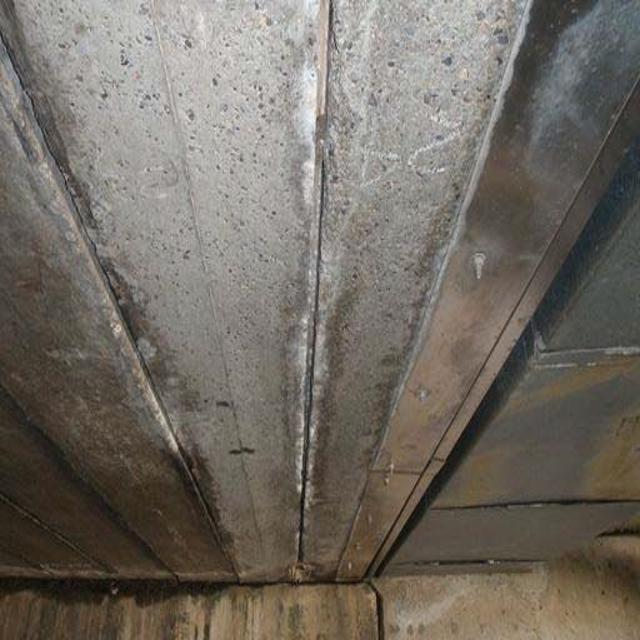freelime: (292, 60, 327, 497)
